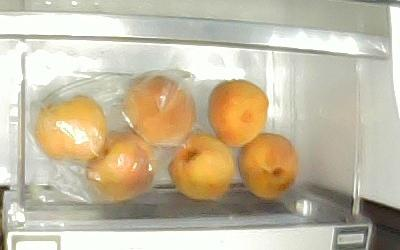peach: (166, 132, 234, 200), (206, 77, 269, 148), (236, 131, 298, 199)
peach_vinyl: (125, 75, 196, 145), (86, 130, 156, 199), (36, 94, 107, 162)
